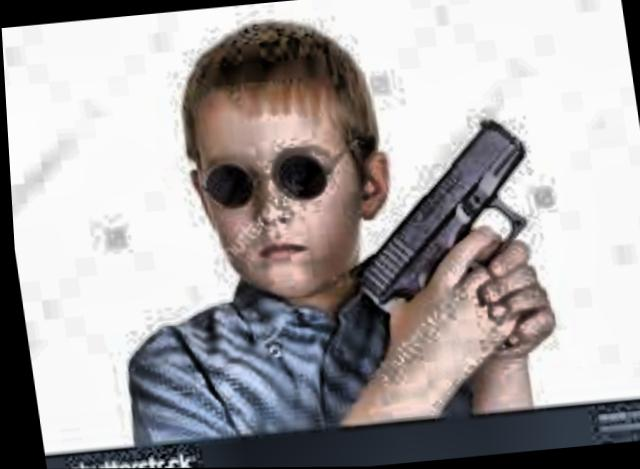pistol: (326, 106, 552, 322)
